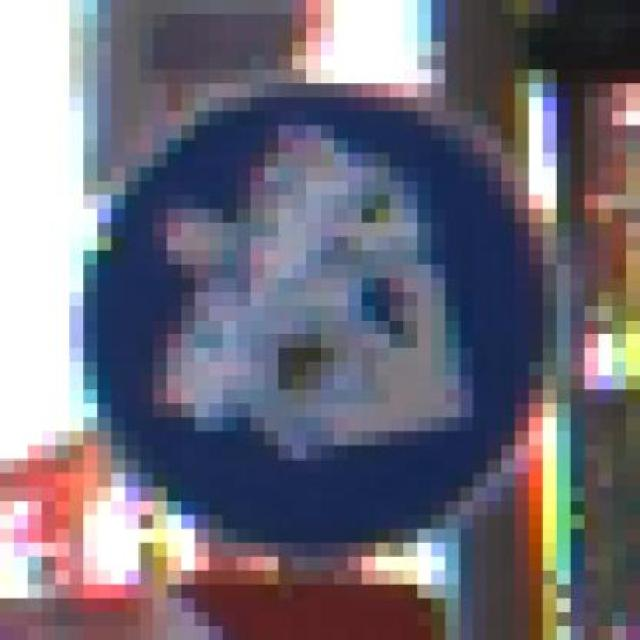Keep-Right: (83, 42, 571, 570)
